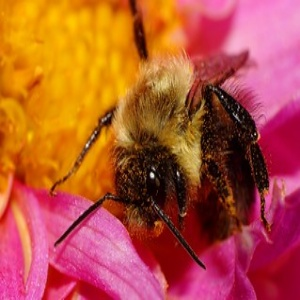bee: (73, 48, 276, 265)
